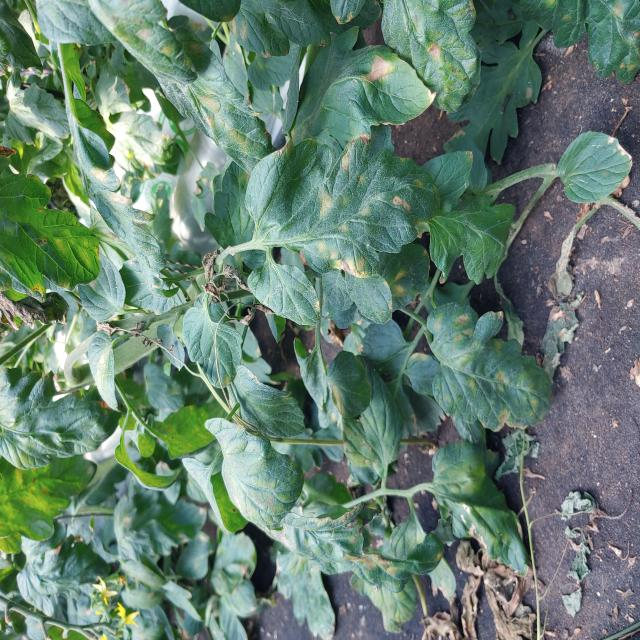Leaf Mold: (247, 129, 441, 281), (157, 28, 273, 174), (426, 303, 553, 432), (297, 25, 436, 139), (0, 172, 104, 294), (204, 417, 304, 530), (247, 261, 322, 327), (329, 350, 371, 420)
